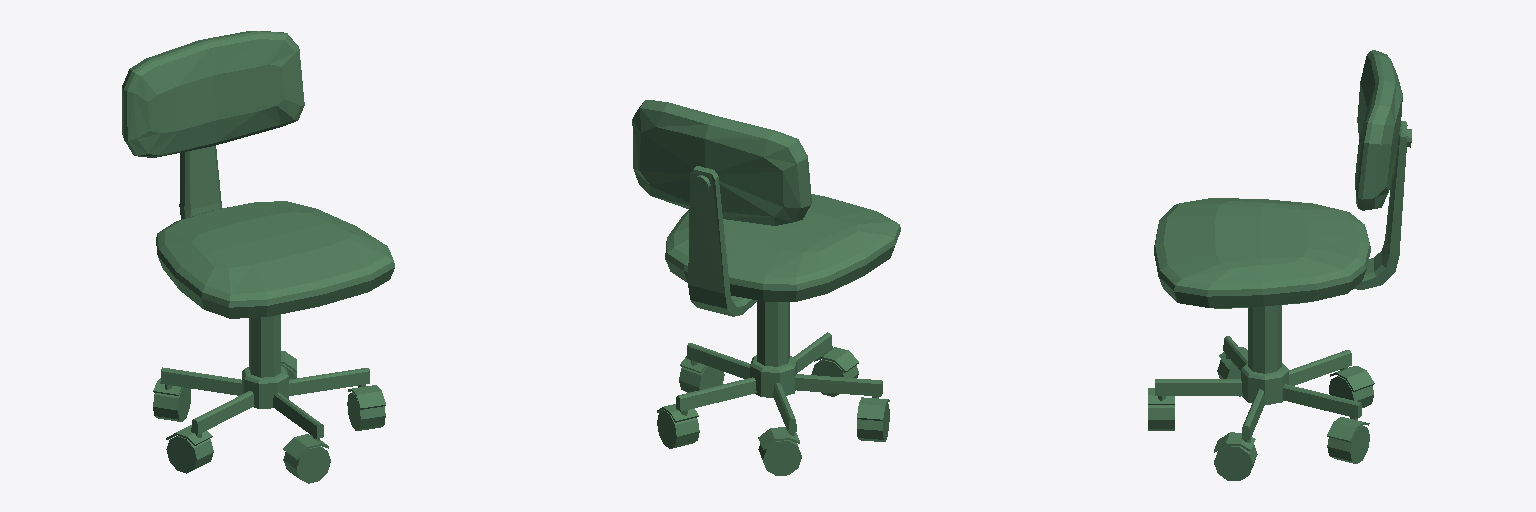
File: OfficeChair.obj
The picture shows the model from 3 angles: view 1: azimuth 30°, elevation 25°; view 2: azimuth 150°, elevation 25°; view 3: azimuth 270°, elevation 25°; orthographic projection.
Visible parts, largest first — view 1: OfficeChair; view 2: OfficeChair; view 3: OfficeChair.
Part boxes in pixels (left/top/right/bottom): OfficeChair: left=122, top=31, right=394, bottom=483; OfficeChair: left=632, top=100, right=900, bottom=475; OfficeChair: left=1148, top=50, right=1411, bottom=480.
Size of the model in its own units: 71.1 by 117 by 79.18.